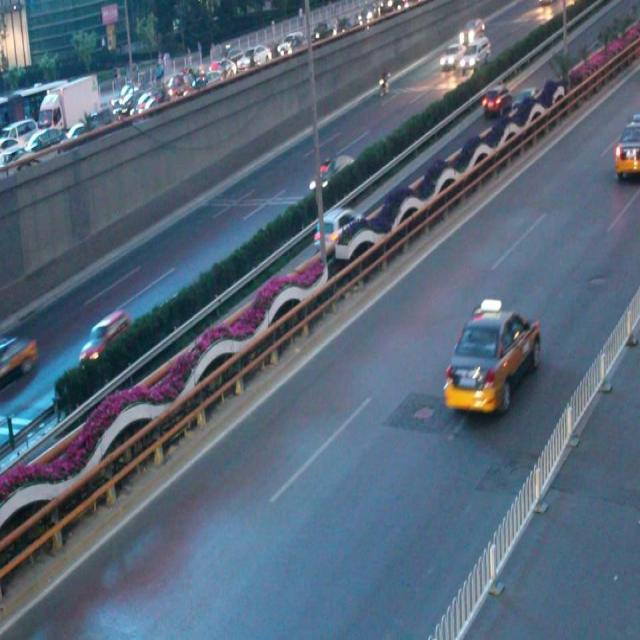car: (444, 301, 539, 412), (77, 312, 133, 364), (314, 203, 364, 249), (1, 326, 36, 390), (610, 116, 640, 180), (309, 150, 352, 194), (477, 84, 508, 119)
